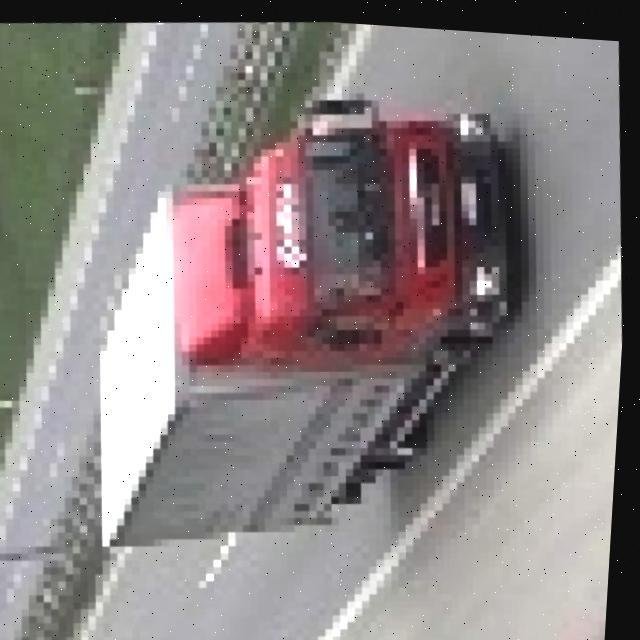truck: (62, 62, 536, 558)
